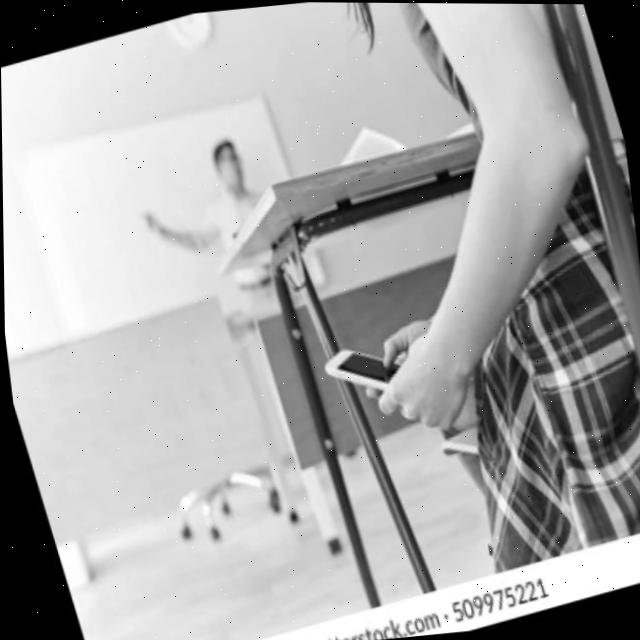phone: (315, 329, 410, 406)
